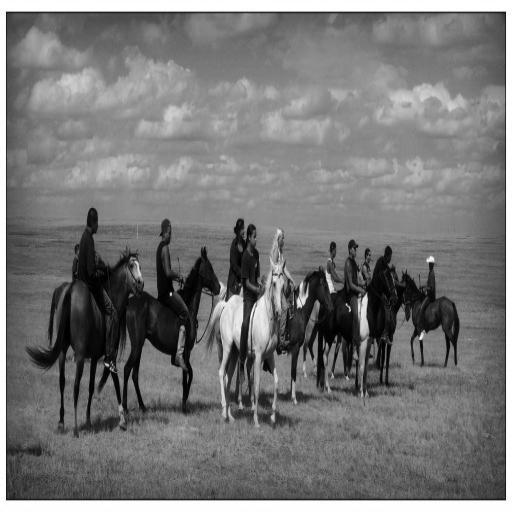horse: (25, 242, 461, 440)
